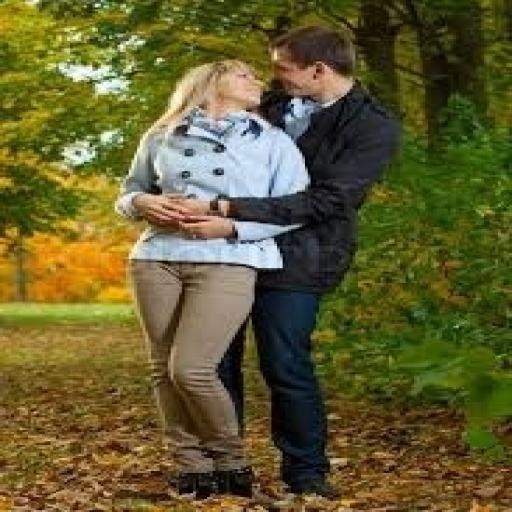hugging: (114, 24, 406, 501)
